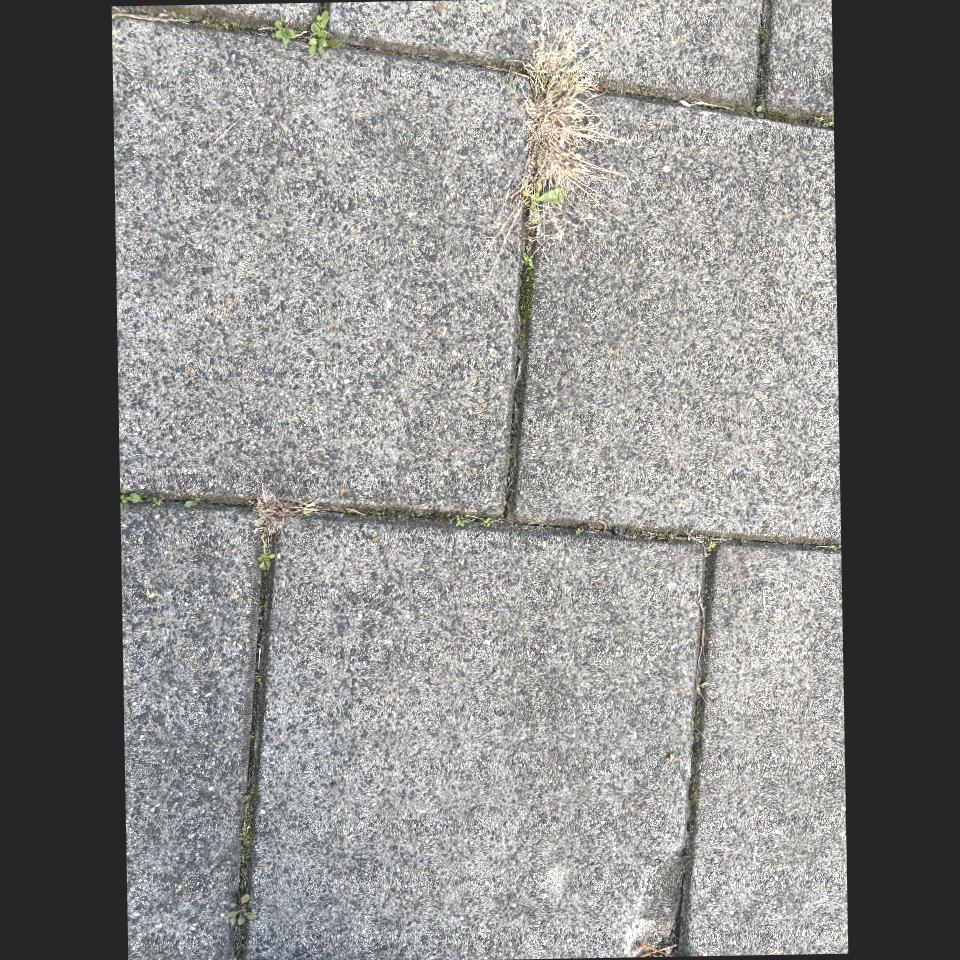weed: (524, 180, 565, 212), (308, 11, 329, 57), (228, 893, 252, 927), (273, 20, 295, 45), (258, 541, 275, 573), (705, 540, 720, 556), (456, 515, 473, 528), (523, 252, 534, 271), (184, 498, 201, 508), (481, 518, 493, 529), (151, 497, 162, 507), (733, 106, 745, 115), (756, 105, 764, 118), (329, 40, 339, 48), (575, 528, 583, 536)
